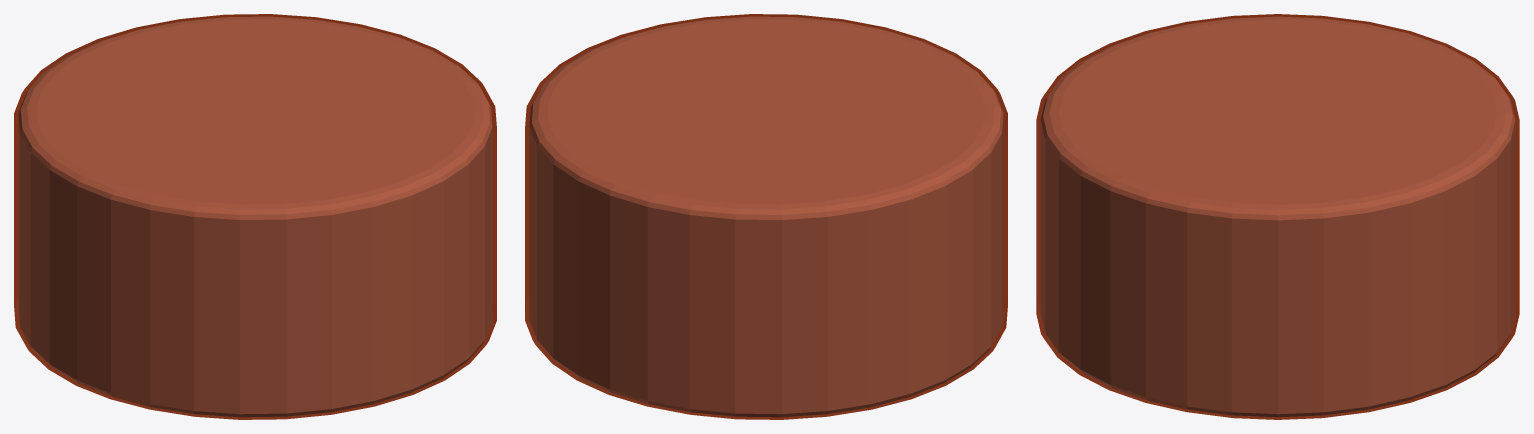
File: circulo chocolate.glb
3 views of the same model, side by side, from view 1: azimuth 30°, elevation 25°; view 2: azimuth 150°, elevation 25°; view 3: azimuth 270°, elevation 25° (orthographic).
Visible parts, largest first — view 1: Cylinder.012; view 2: Cylinder.012; view 3: Cylinder.012.
Part boxes in pixels (left/top/right/bottom): Cylinder.012: left=14, top=14, right=496, bottom=419; Cylinder.012: left=525, top=14, right=1007, bottom=419; Cylinder.012: left=1036, top=14, right=1519, bottom=419.
Size of the model in its own units: 20.47 by 9.98 by 20.47.
